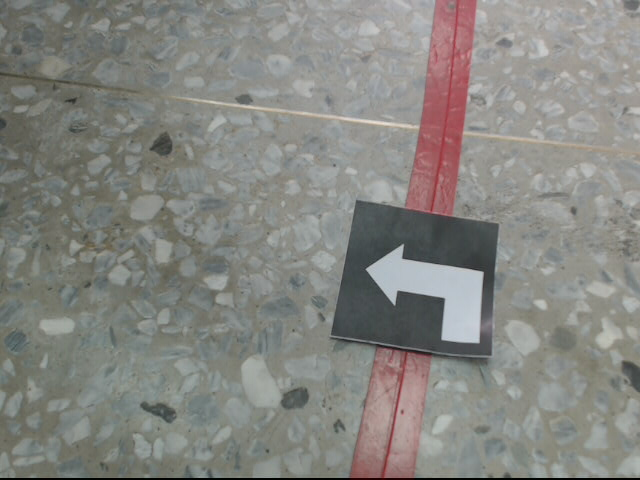left: (330, 196, 500, 358)
